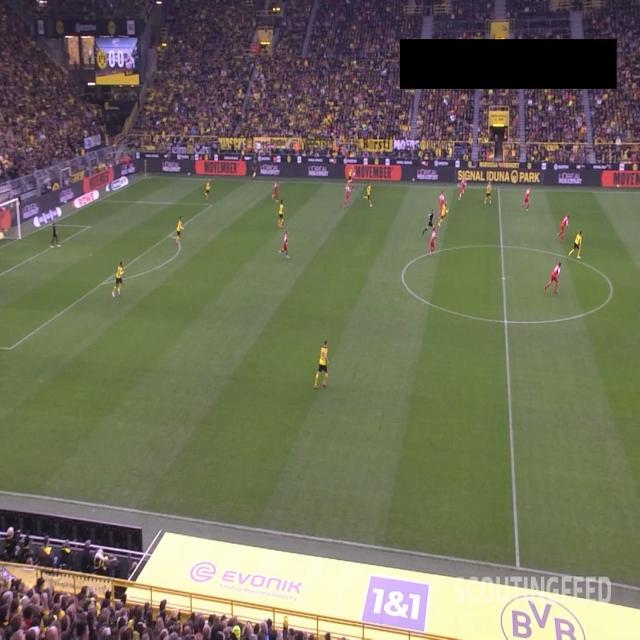ball: (370, 203, 372, 209)
f_player: (313, 342, 328, 391), (544, 262, 563, 293), (114, 261, 128, 299), (568, 231, 583, 261), (558, 214, 572, 243), (172, 217, 184, 250), (427, 226, 439, 256), (278, 230, 290, 260), (438, 201, 450, 228), (276, 198, 286, 228), (521, 187, 533, 211), (457, 176, 468, 202), (342, 183, 352, 209), (51, 223, 61, 248), (365, 184, 375, 207), (484, 183, 493, 206), (272, 179, 280, 203), (438, 190, 444, 219), (204, 181, 211, 202), (351, 168, 357, 192), (348, 166, 353, 186)
umpire: (422, 206, 436, 238)
